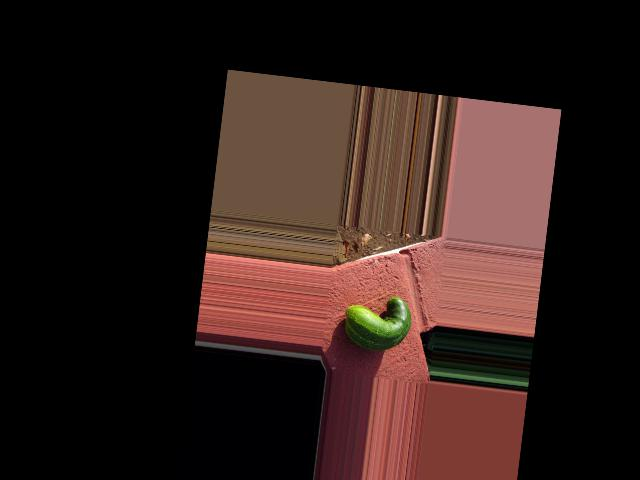cucumber: (341, 290, 413, 353)
